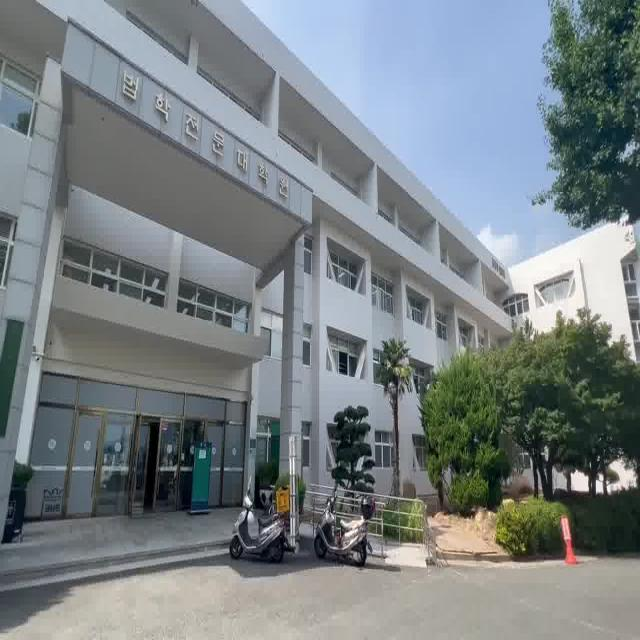building: (0, 0, 402, 487)
